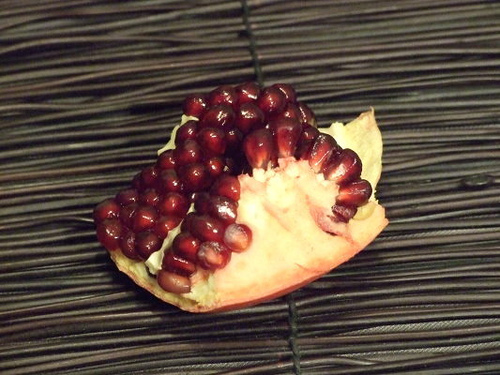pomogranate: (93, 87, 388, 312)
